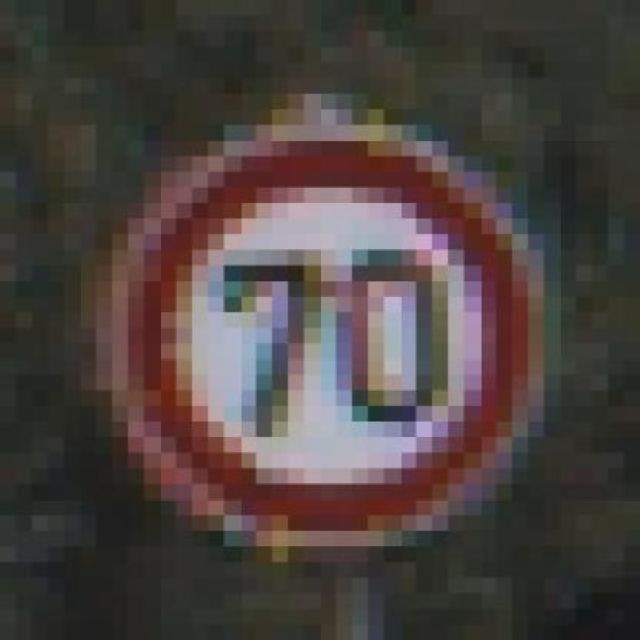forb_speed_over_70: (128, 138, 527, 535)
